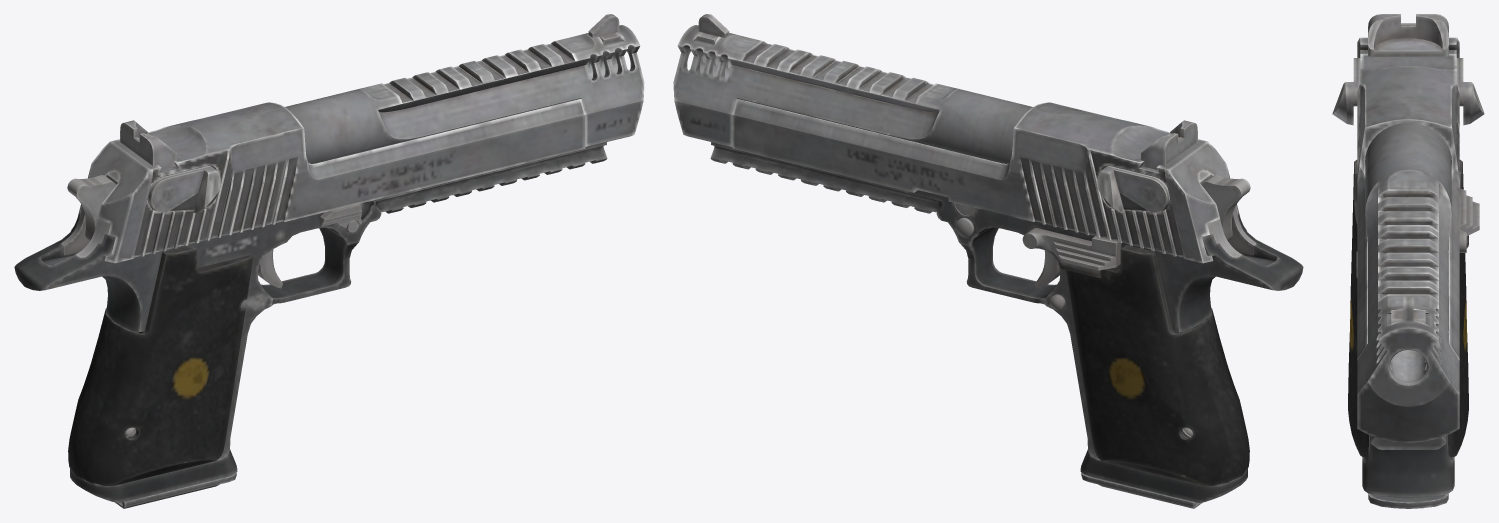
File: desert_eagle.43509058b7.glb
3 views of the same model, side by side, from view 1: azimuth 30°, elevation 25°; view 2: azimuth 150°, elevation 25°; view 3: azimuth 270°, elevation 25° (orthographic). The views are drawn at different scales.
Parts seen in each view (by area): view 1: slide, base_15, base, base_14, slide_2, slide_5, base_3, base_12, mag_2, base_9; view 2: slide, base_15, base, base_14, base_5, slide_2, slide_5, base_3, base_12, mag_2; view 3: base, slide, base_14, base_15, slide_5, slide_2, base_5, mag_2, base_4.
Part boxes in pixels (x1,y1,x2,y2): slide: (78, 99, 585, 263); base_15: (68, 245, 253, 485); base: (285, 25, 644, 163); base_14: (14, 142, 607, 503); slide_2: (148, 166, 220, 213); slide_5: (120, 120, 176, 169); base_3: (67, 175, 116, 240); base_12: (62, 206, 110, 257); mag_2: (115, 472, 236, 508); base_9: (320, 204, 362, 227); slide: (732, 99, 1239, 263); base_15: (1059, 245, 1249, 485); base: (673, 25, 1032, 163); base_14: (710, 142, 1303, 503); base_5: (1022, 228, 1121, 270); slide_2: (1097, 166, 1169, 213); slide_5: (1141, 120, 1197, 169); base_3: (1201, 175, 1250, 240); base_12: (1207, 206, 1255, 257); mag_2: (1081, 472, 1202, 508); base: (1357, 123, 1459, 442); slide: (1357, 37, 1459, 359); base_14: (1362, 435, 1454, 498); base_15: (1348, 159, 1468, 457); slide_5: (1368, 14, 1448, 56); slide_2: (1332, 58, 1484, 125); base_5: (1459, 172, 1479, 252); mag_2: (1368, 493, 1448, 508); base_4: (1391, 296, 1425, 323).
Size of the model in its own units: 0.305 by 0.1736 by 0.0541.
3 materials, 3 textured.
